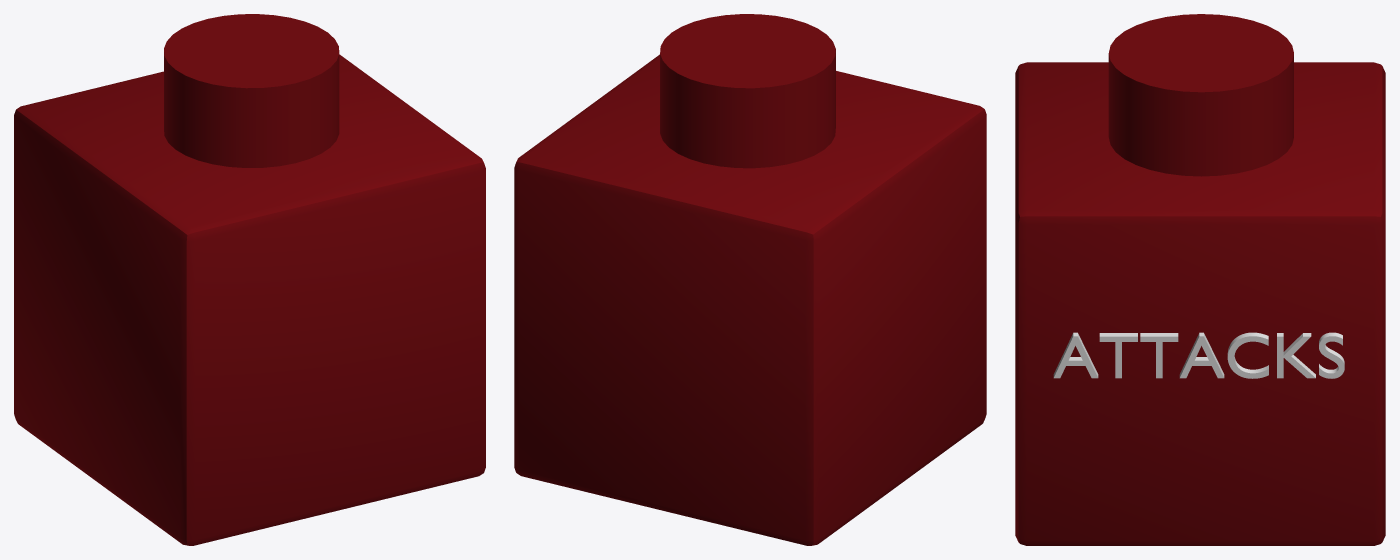
Rendered from ATTACKS.fbx.
3 renders of one model, left to right at view 1: azimuth 30°, elevation 25°; view 2: azimuth 150°, elevation 25°; view 3: azimuth 270°, elevation 25°, orthographic. The views are drawn at different scales.
Parts seen in each view (by area): view 1: Cube, Cylinder; view 2: Cube, Cylinder; view 3: Cube, Cylinder, Text.
Part boxes in pixels (x1,y1,x2,y2): Cube: (14,54,485,545); Cylinder: (164,14,339,167); Cube: (514,54,986,545); Cylinder: (660,14,835,168); Cube: (1015,62,1385,545); Cylinder: (1108,14,1293,176); Text: (1053,332,1344,378).
Size of the model in its own units: 205 by 250 by 200.
